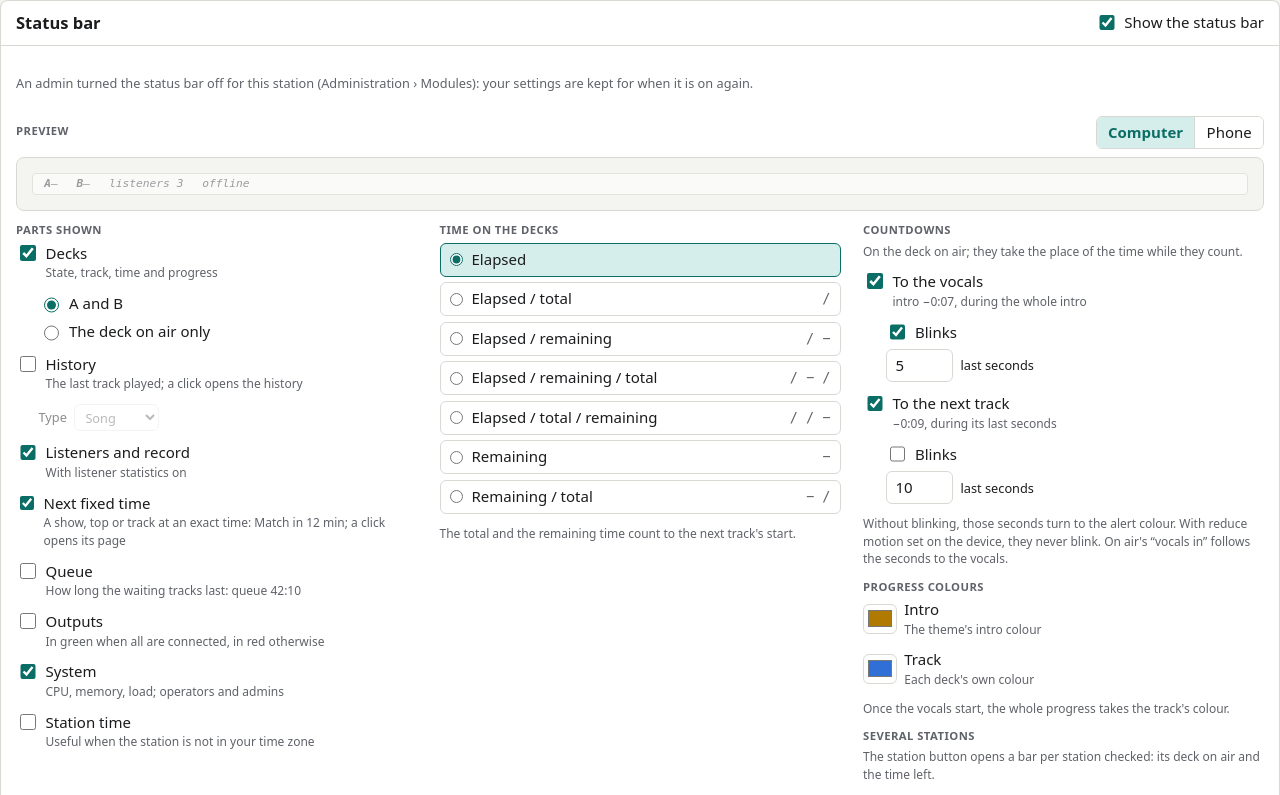
Test: Account › Status bar › hides the bar, and says when an admin turned it off for the station
Expected: the text "An admin turned the status bar off for this station (Administration › Modules): your settings are kept for when it is on" is shown, [16,74,753,92]
Click the checkbox labelled "Show the status bar": (1107, 22) [1099,14,1115,30]
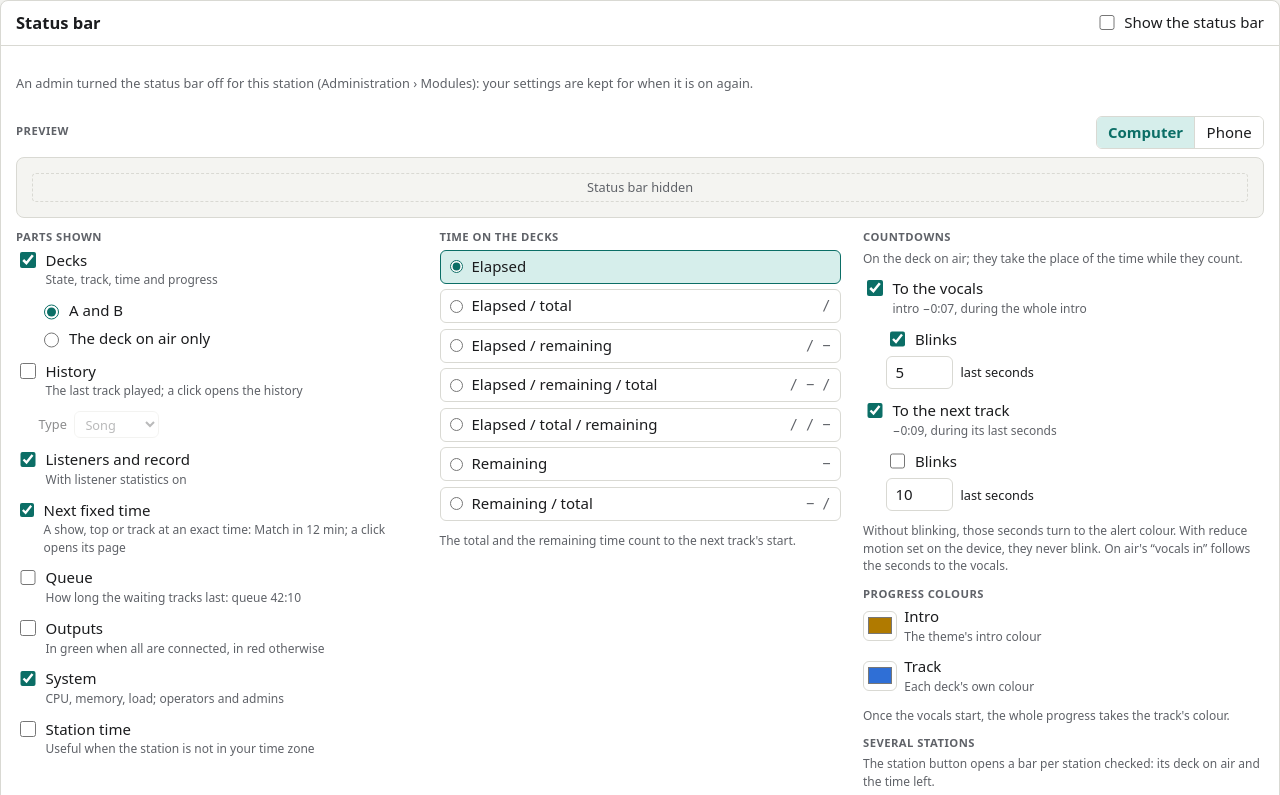
Result: the text "Status bar hidden" is shown at [32,173,1248,202]
